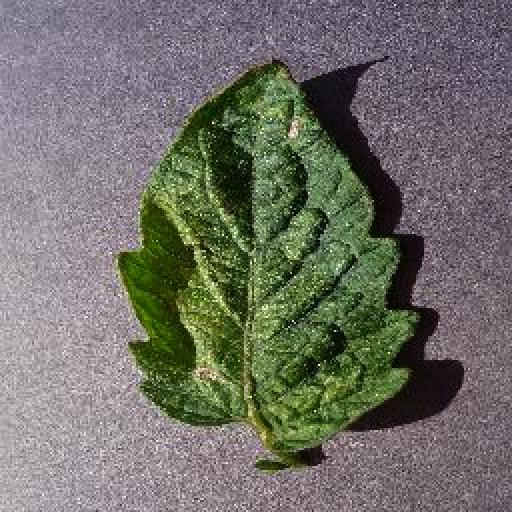disease_tomato: (120, 54, 416, 454)
